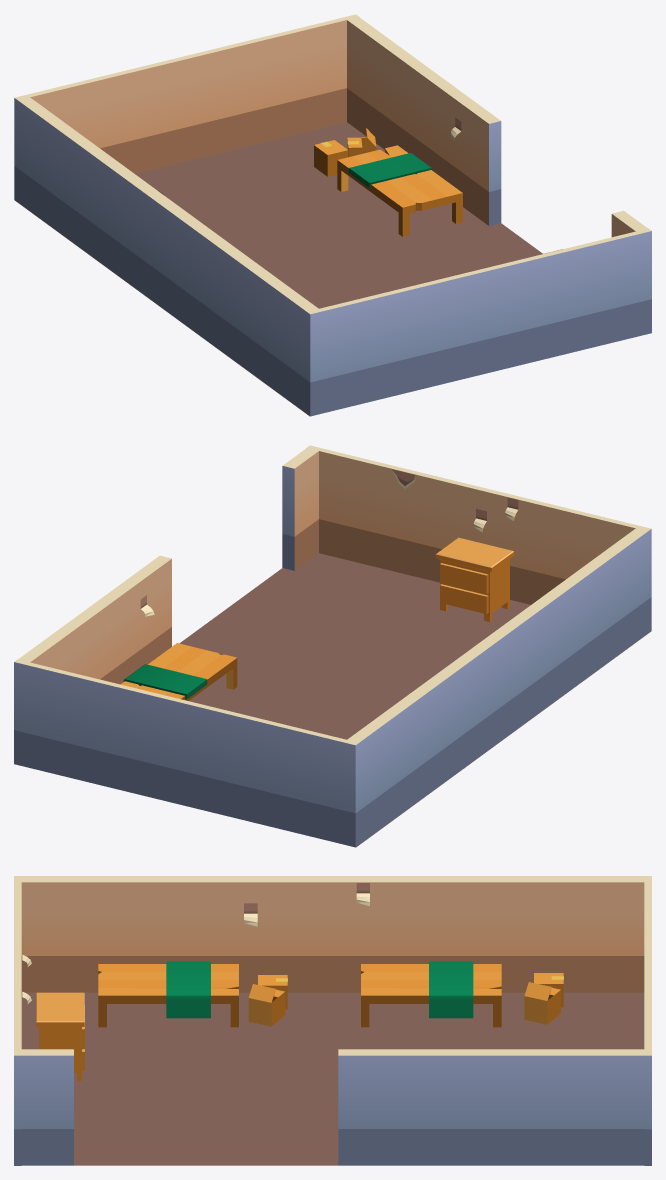
File: Barrack_Lv1_b_Left.fbx
3 renders of one model, top to bottom at view 1: azimuth 30°, elevation 25°; view 2: azimuth 150°, elevation 25°; view 3: azimuth 270°, elevation 25°, orthographic. The views are drawn at different scales.
Parts seen in each view (by area): view 1: Barrack_Lv1_b_Left10, Barrack_Lv1_b_Left3, Barrack_Lv1_b_Left8, Barrack_Lv1_b_Left15, Barrack_Lv1_b_Left6, Barrack_Lv1_b_Left20, Barrack_Lv1_b_Left7, Barrack_Lv1_b_Left1; view 2: Barrack_Lv1_b_Left15, Barrack_Lv1_b_Left8, Barrack_Lv1_b_Left3, Barrack_Lv1_b_Left10, Barrack_Lv1_b_Left6, Barrack_Lv1_b_Left5, Barrack_Lv1_b_Left20, Barrack_Lv1_b_Left1, Barrack_Lv1_b_Left2; view 3: Barrack_Lv1_b_Left3, Barrack_Lv1_b_Left8, Barrack_Lv1_b_Left6, Barrack_Lv1_b_Left18, Barrack_Lv1_b_Left19, Barrack_Lv1_b_Left1, Barrack_Lv1_b_Left5, Barrack_Lv1_b_Left10, Barrack_Lv1_b_Left15, Barrack_Lv1_b_Left4, Barrack_Lv1_b_Left17, Barrack_Lv1_b_Left2 (+2 smaller).
Part boxes in pixels (x1=…): Barrack_Lv1_b_Left10: x1=306, y1=228, x2=651, y2=415; Barrack_Lv1_b_Left3: x1=15, y1=95, x2=322, y2=416; Barrack_Lv1_b_Left8: x1=14, y1=122, x2=542, y2=416; Barrack_Lv1_b_Left15: x1=14, y1=14, x2=358, y2=202; Barrack_Lv1_b_Left6: x1=347, y1=15, x2=501, y2=225; Barrack_Lv1_b_Left20: x1=337, y1=145, x2=462, y2=236; Barrack_Lv1_b_Left7: x1=314, y1=140, x2=348, y2=176; Barrack_Lv1_b_Left1: x1=611, y1=210, x2=647, y2=237; Barrack_Lv1_b_Left15: x1=14, y1=659, x2=359, y2=847; Barrack_Lv1_b_Left8: x1=179, y1=553, x2=651, y2=847; Barrack_Lv1_b_Left3: x1=344, y1=528, x2=648, y2=844; Barrack_Lv1_b_Left10: x1=307, y1=445, x2=651, y2=633; Barrack_Lv1_b_Left6: x1=18, y1=555, x2=171, y2=684; Barrack_Lv1_b_Left5: x1=435, y1=537, x2=514, y2=621; Barrack_Lv1_b_Left20: x1=120, y1=643, x2=237, y2=700; Barrack_Lv1_b_Left1: x1=282, y1=448, x2=318, y2=570; Barrack_Lv1_b_Left2: x1=140, y1=469, x2=518, y2=646; Barrack_Lv1_b_Left3: x1=14, y1=876, x2=651, y2=992; Barrack_Lv1_b_Left8: x1=21, y1=992, x2=644, y2=1165; Barrack_Lv1_b_Left6: x1=338, y1=1049, x2=651, y2=1165; Barrack_Lv1_b_Left18: x1=98, y1=961, x2=238, y2=1027; Barrack_Lv1_b_Left19: x1=361, y1=961, x2=501, y2=1027; Barrack_Lv1_b_Left1: x1=21, y1=1049, x2=73, y2=1165; Barrack_Lv1_b_Left5: x1=36, y1=992, x2=84, y2=1080; Barrack_Lv1_b_Left10: x1=14, y1=876, x2=21, y2=1165; Barrack_Lv1_b_Left15: x1=644, y1=880, x2=651, y2=1165; Barrack_Lv1_b_Left4: x1=248, y1=984, x2=285, y2=1026; Barrack_Lv1_b_Left17: x1=524, y1=982, x2=560, y2=1024; Barrack_Lv1_b_Left2: x1=22, y1=883, x2=369, y2=1003.
Bounding box in the file's own units: 701 × 206 × 1050.
